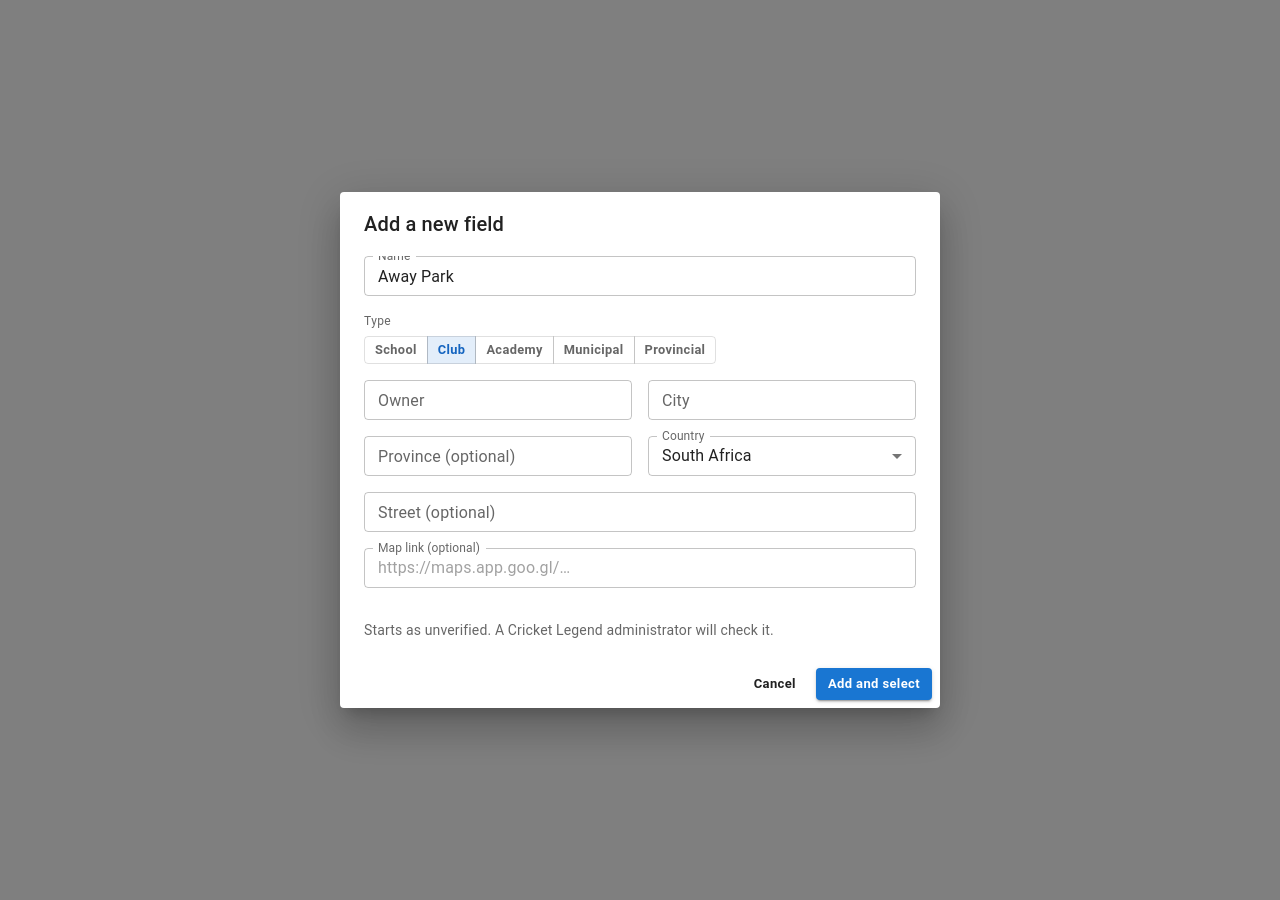
FieldFormDialog › shows a general failure in the dialog and stays open
The image size is (1280, 900).
In the field labelled "Owner": (498, 400) [364,380,632,420], type "Council"
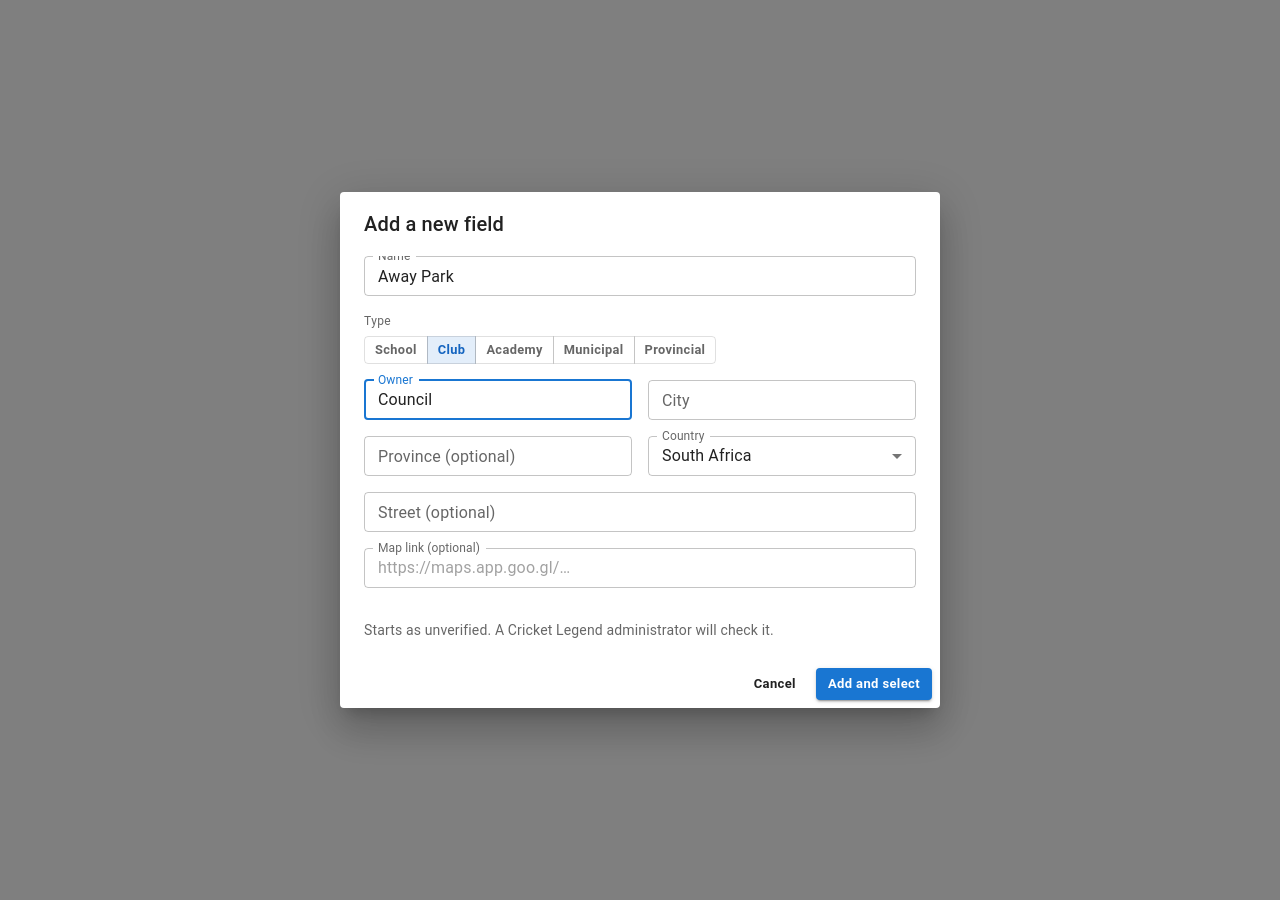
In the field labelled "City": (782, 400) [648,380,916,420], type "Durban"
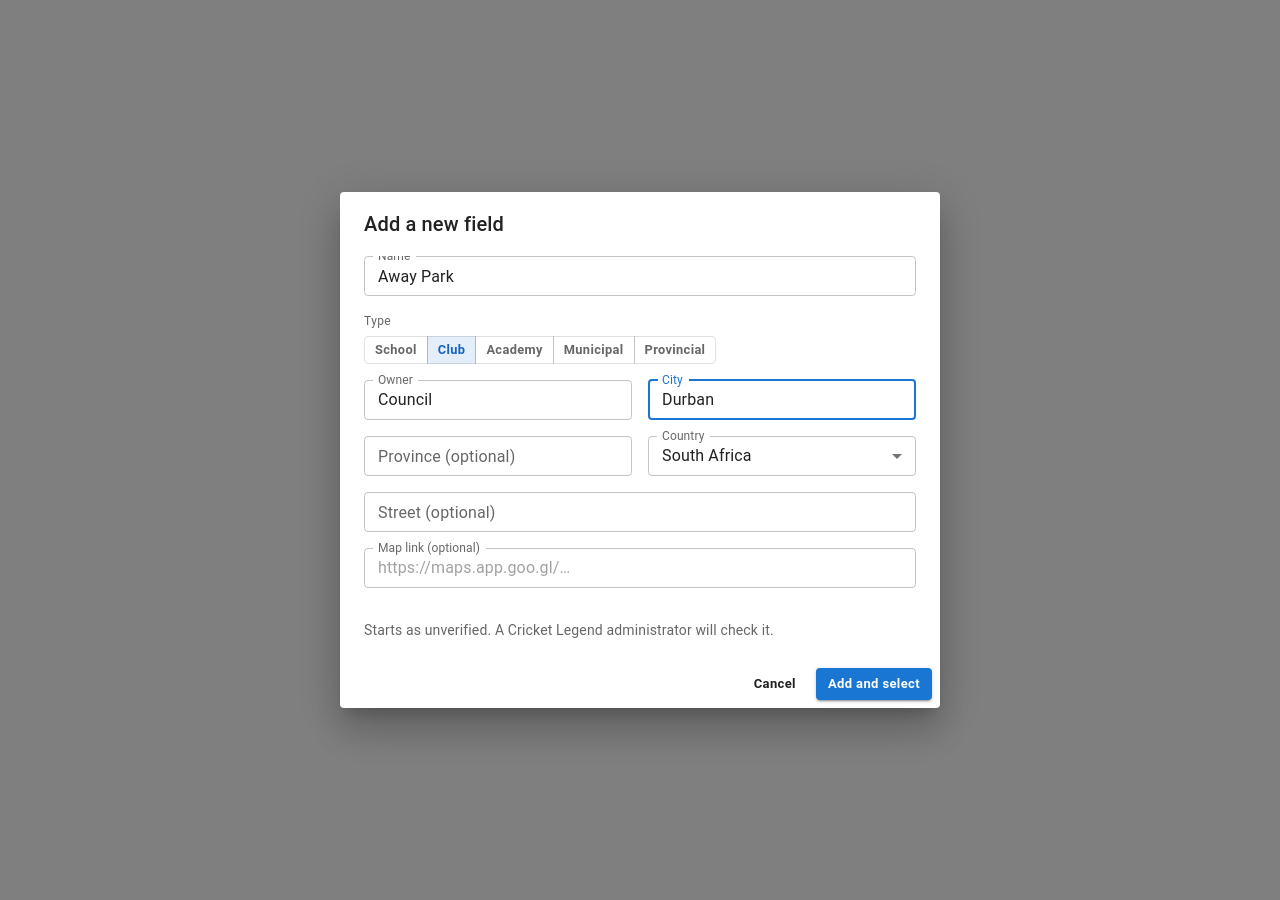
Click the button "Add and select": (874, 684) [816,668,932,700]
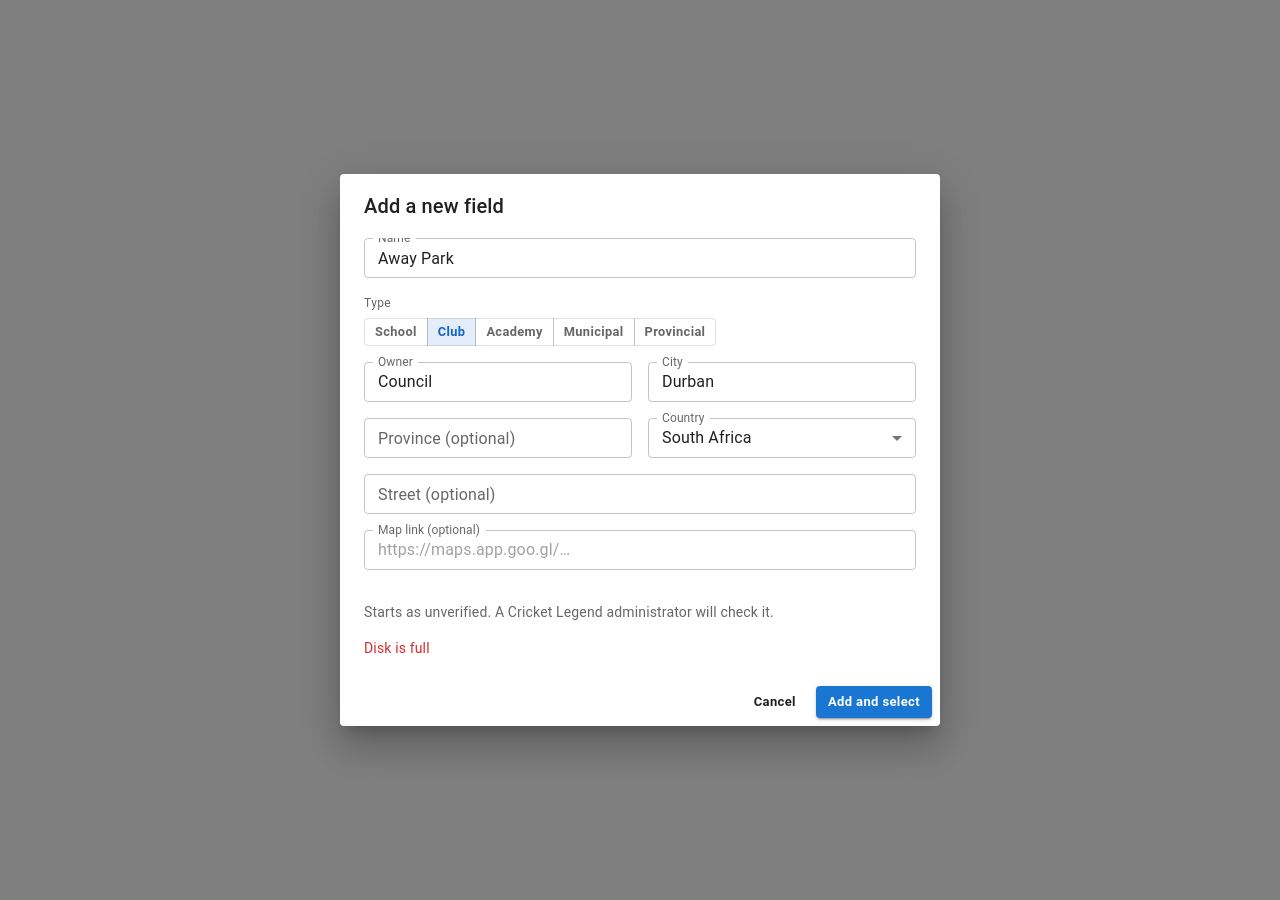
Expected: the text "Disk is full" is shown, [364,640,430,656]
